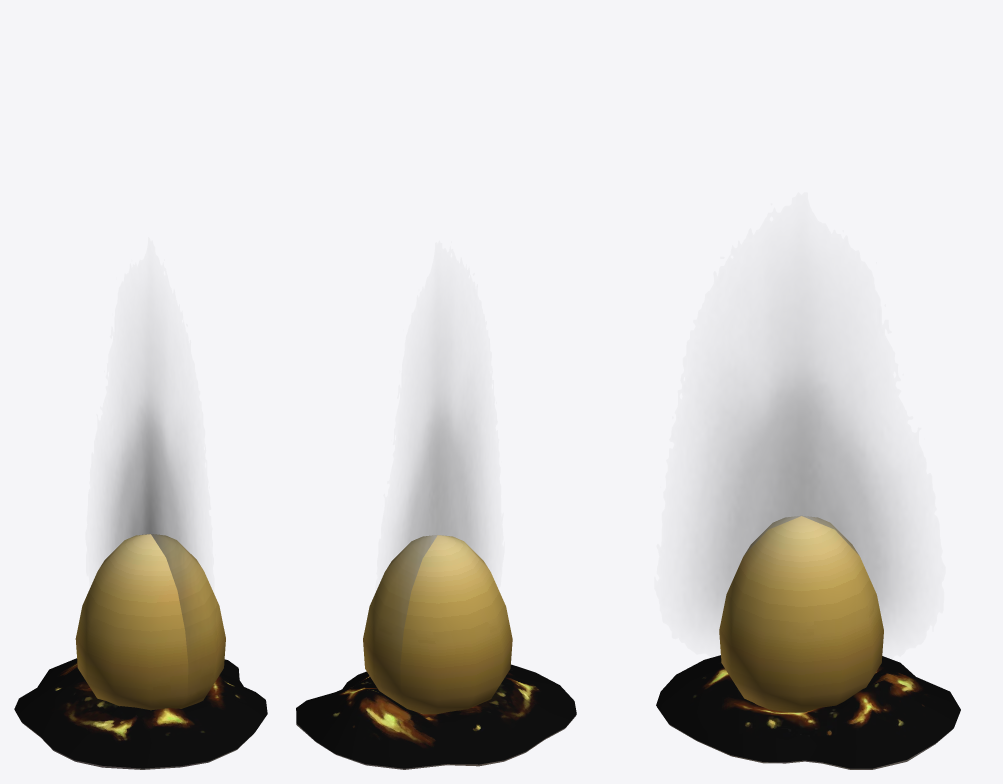
3 views of the same model, side by side, from view 1: azimuth 30°, elevation 25°; view 2: azimuth 150°, elevation 25°; view 3: azimuth 270°, elevation 25° (orthographic). The views are drawn at different scales.
Size of the model in its own units: 1.43 by 3.9 by 1.94.
19 materials, 19 textured.
